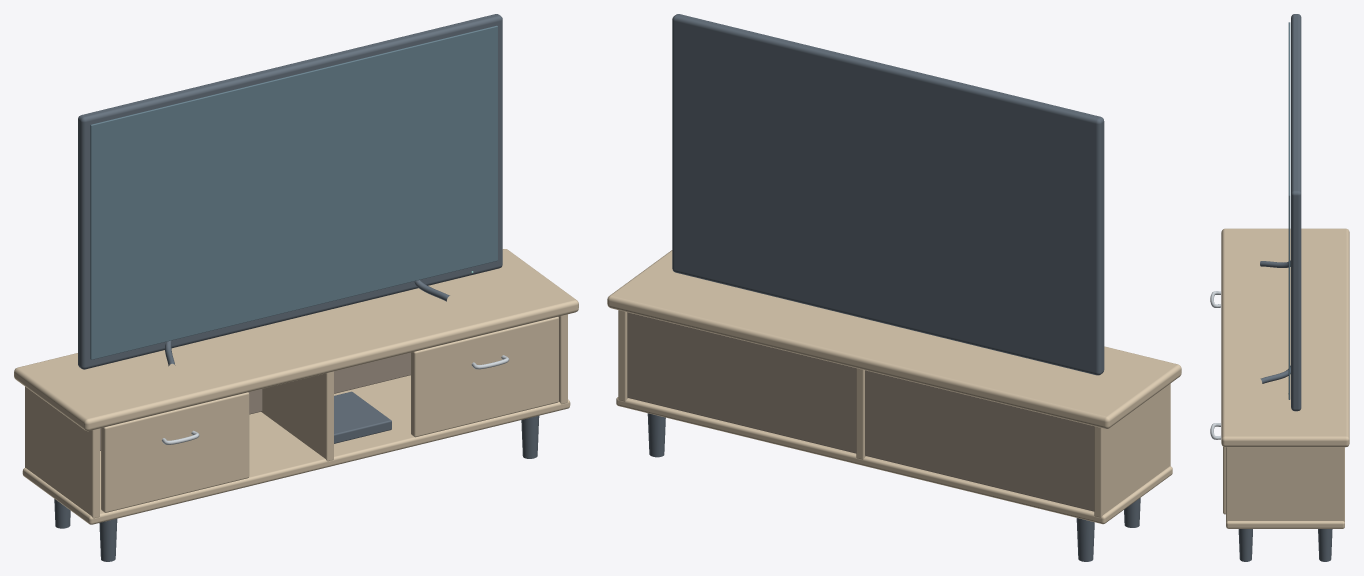
Rendered from tv-console.glb.
3 renders of one model, left to right at view 1: azimuth 30°, elevation 25°; view 2: azimuth 150°, elevation 25°; view 3: azimuth 270°, elevation 25°, orthographic. The views are drawn at different scales.
Visible parts, largest first — view 1: tv-console; view 2: tv-console; view 3: tv-console.
Part boxes in pixels (<box>): tv-console: <box>14,14,578,561</box>; tv-console: <box>607,14,1181,561</box>; tv-console: <box>1210,14,1349,561</box>.
Bounding box in the file's own units: 1.5 × 1.22 × 0.42.
